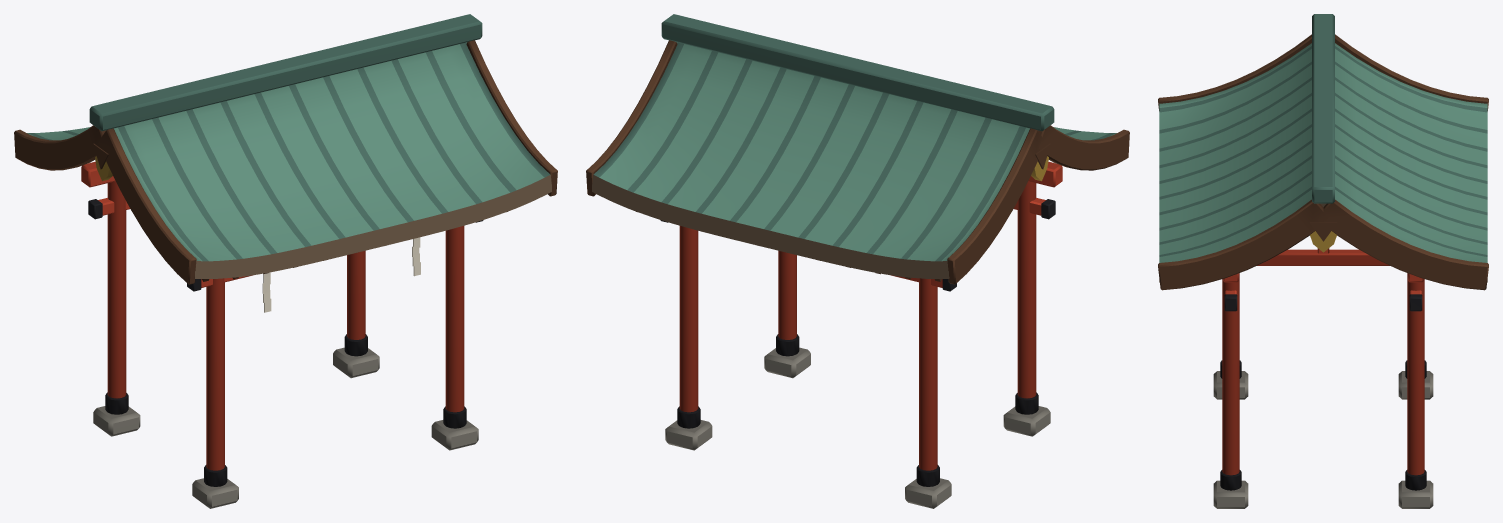
Rendered from temizuya.glb.
The picture shows the model from 3 angles, left to right: view 1: azimuth 30°, elevation 25°; view 2: azimuth 150°, elevation 25°; view 3: azimuth 270°, elevation 25°; orthographic projection. The views are drawn at different scales.
Visible parts, largest first — view 1: temizuya; view 2: temizuya; view 3: temizuya.
Part boxes in pixels (x1=…): temizuya: x1=14, y1=14, x2=557, y2=508; temizuya: x1=586, y1=14, x2=1129, y2=508; temizuya: x1=1158, y1=14, x2=1488, y2=508.
Size of what is drawn, in the model's own units: 3.58 by 3.32 by 2.86.
